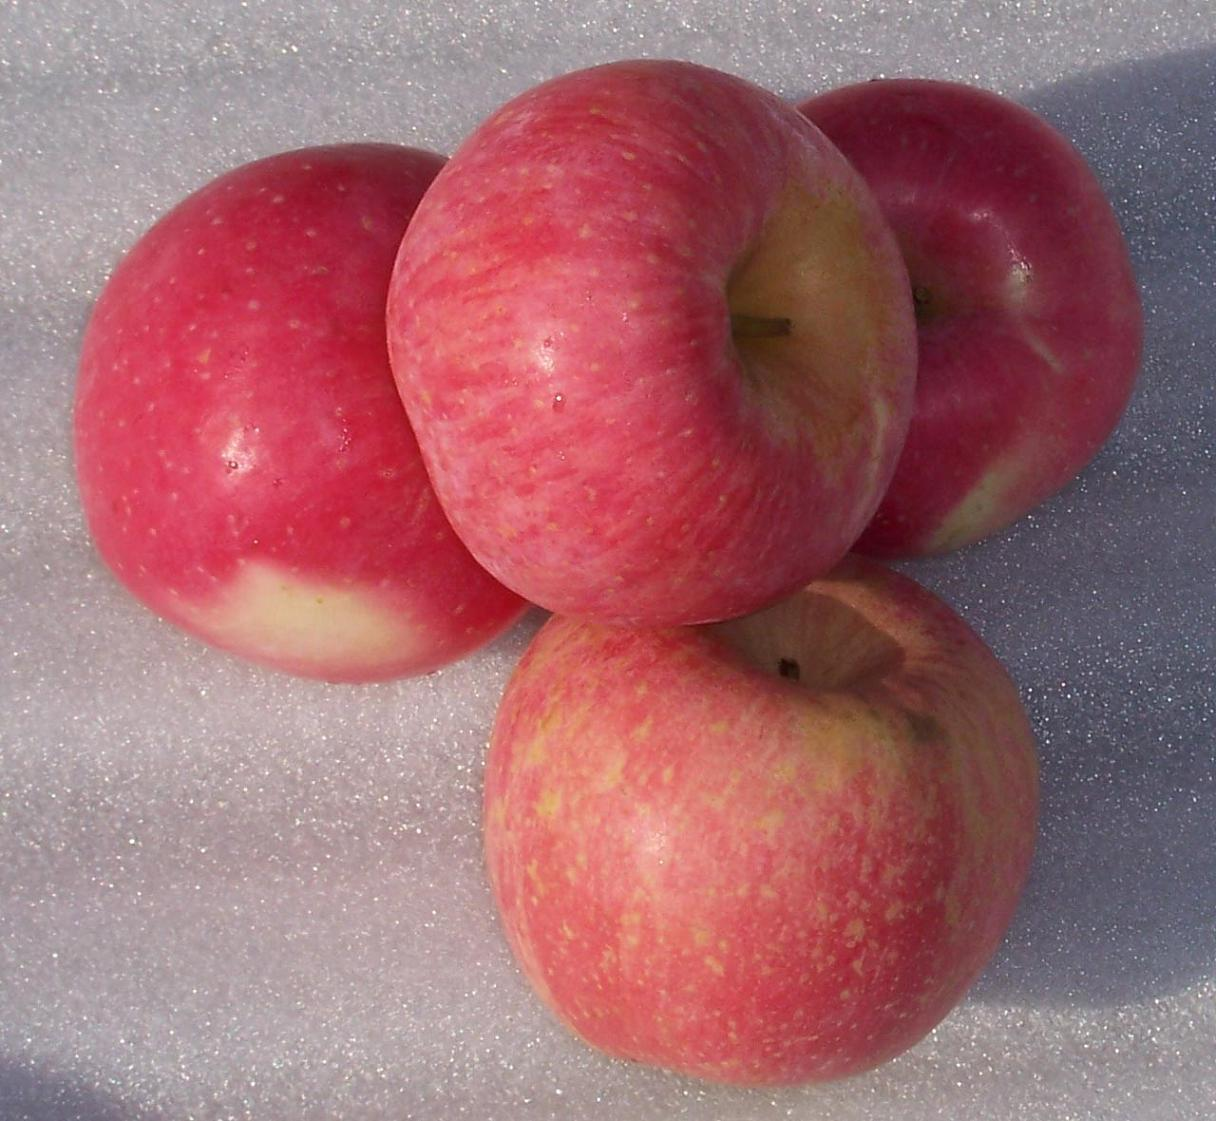apple: (68, 142, 626, 686), (471, 556, 1041, 1086), (383, 63, 916, 619), (795, 76, 1138, 576)
